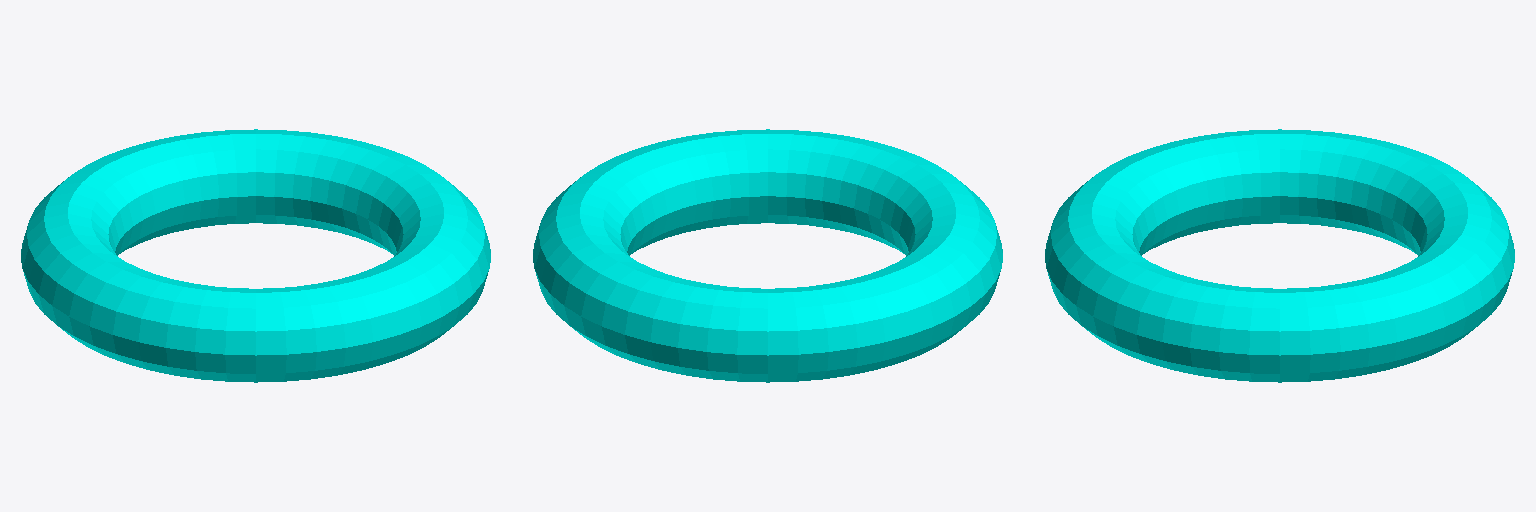
3 renders of one model, left to right at view 1: azimuth 30°, elevation 25°; view 2: azimuth 150°, elevation 25°; view 3: azimuth 270°, elevation 25°, orthographic.
Visible parts, largest first — view 1: Toroide.001; view 2: Toroide.001; view 3: Toroide.001.
Boxes of the visible parts, x1=… form: Toroide.001: x1=21, y1=129, x2=490, y2=382; Toroide.001: x1=533, y1=129, x2=1002, y2=382; Toroide.001: x1=1045, y1=129, x2=1514, y2=382.
Size of the model in its own units: 2.5 by 0.5 by 2.5.
Materials: 1 (1 with a texture image).